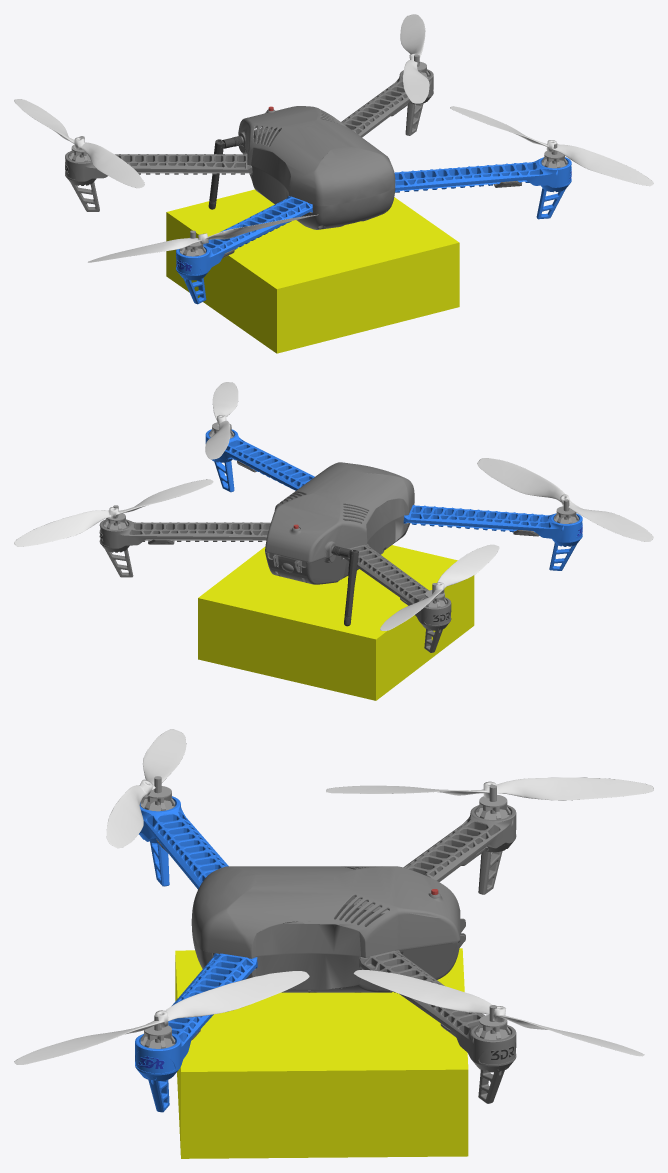
Rendered from drone_package.glb.
The picture shows the model from 3 angles, top to bottom: view 1: azimuth 30°, elevation 25°; view 2: azimuth 150°, elevation 25°; view 3: azimuth 270°, elevation 25°; orthographic projection. The views are drawn at different scales.
Visible parts, largest first — view 1: Cube, ASY0028, EPP1045_A_0012, EPP1045_A, EPP1045_A_003, EPP1045_A_0022; view 2: ASY0028, Cube, EPP1045_A_0022, EPP1045_A_003, EPP1045_A, EPP1045_A_0012; view 3: ASY0028, Cube, EPP1045_A_0012, EPP1045_A, EPP1045_A_003, EPP1045_A_0022.
Part boxes in pixels (<box>): Cube: <box>166,189,459,353</box>; ASY0028: <box>65,54,571,304</box>; EPP1045_A_0012: <box>450,106,653,186</box>; EPP1045_A: <box>14,99,144,188</box>; EPP1045_A_003: <box>400,14,429,103</box>; EPP1045_A_0022: <box>88,214,318,262</box>; ASY0028: <box>99,422,582,652</box>; Cube: <box>198,545,474,700</box>; EPP1045_A_0022: <box>477,458,653,541</box>; EPP1045_A_003: <box>14,479,213,546</box>; EPP1045_A: <box>380,544,499,630</box>; EPP1045_A_0012: <box>205,382,238,459</box>; ASY0028: <box>135,776,516,1112</box>; Cube: <box>175,948,468,1158</box>; EPP1045_A_0012: <box>14,971,309,1064</box>; EPP1045_A: <box>326,777,653,800</box>; EPP1045_A_003: <box>353,969,644,1056</box>; EPP1045_A_0022: <box>106,729,186,848</box>.
Bounding box in the file's own units: 0.6197 × 0.1887 × 0.5026.
